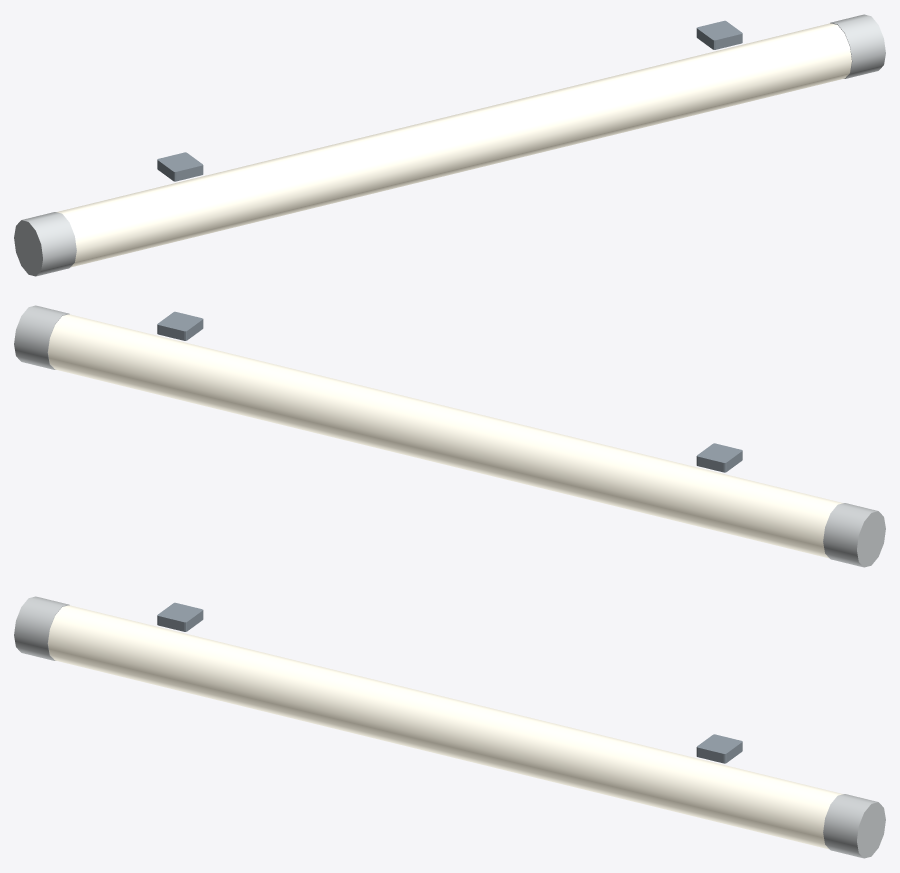
File: source.glb
3 views of the same model, one above another, from view 1: azimuth 30°, elevation 25°; view 2: azimuth 150°, elevation 25°; view 3: azimuth 330°, elevation 25° (orthographic).
Parts seen in each view (by area): view 1: Emitters, 粉末涂层铝壳, 机加工金属; view 2: Emitters, 粉末涂层铝壳, 机加工金属; view 3: Emitters, 粉末涂层铝壳, 机加工金属.
Part boxes in pixels (x1,y1,x2,y2): Emitters: (56,23,851,267); 粉末涂层铝壳: (14,14,885,276); 机加工金属: (157,20,742,181); Emitters: (48,314,843,558); 粉末涂层铝壳: (14,305,885,567); 机加工金属: (157,311,742,472); Emitters: (48,605,843,849); 粉末涂层铝壳: (14,596,885,858); 机加工金属: (157,602,742,763).
Bounding box in the file's own units: 0.322 × 0.0276 × 0.0193.
